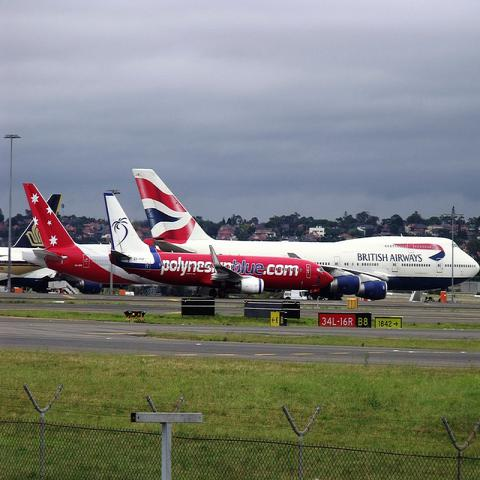truck: (291, 289, 308, 299), (284, 291, 292, 299)
